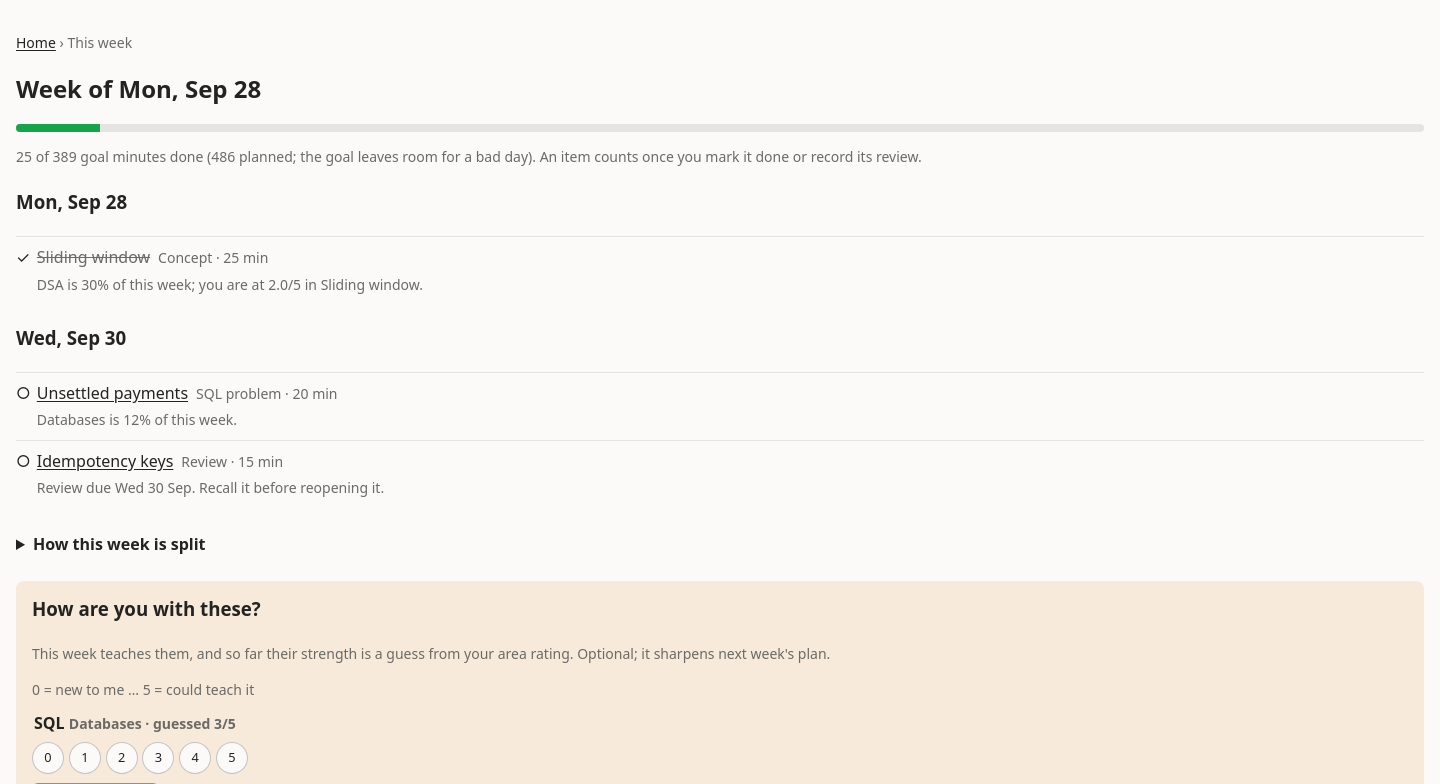
WeekPage › offers to sharpen guessed topics without blocking anything
This screenshot has width=1440, height=784.
Step 1. Click the radio button named "1, Heard of it" → [85, 758], box left=69, top=742, right=101, bottom=774
(page scrolled)
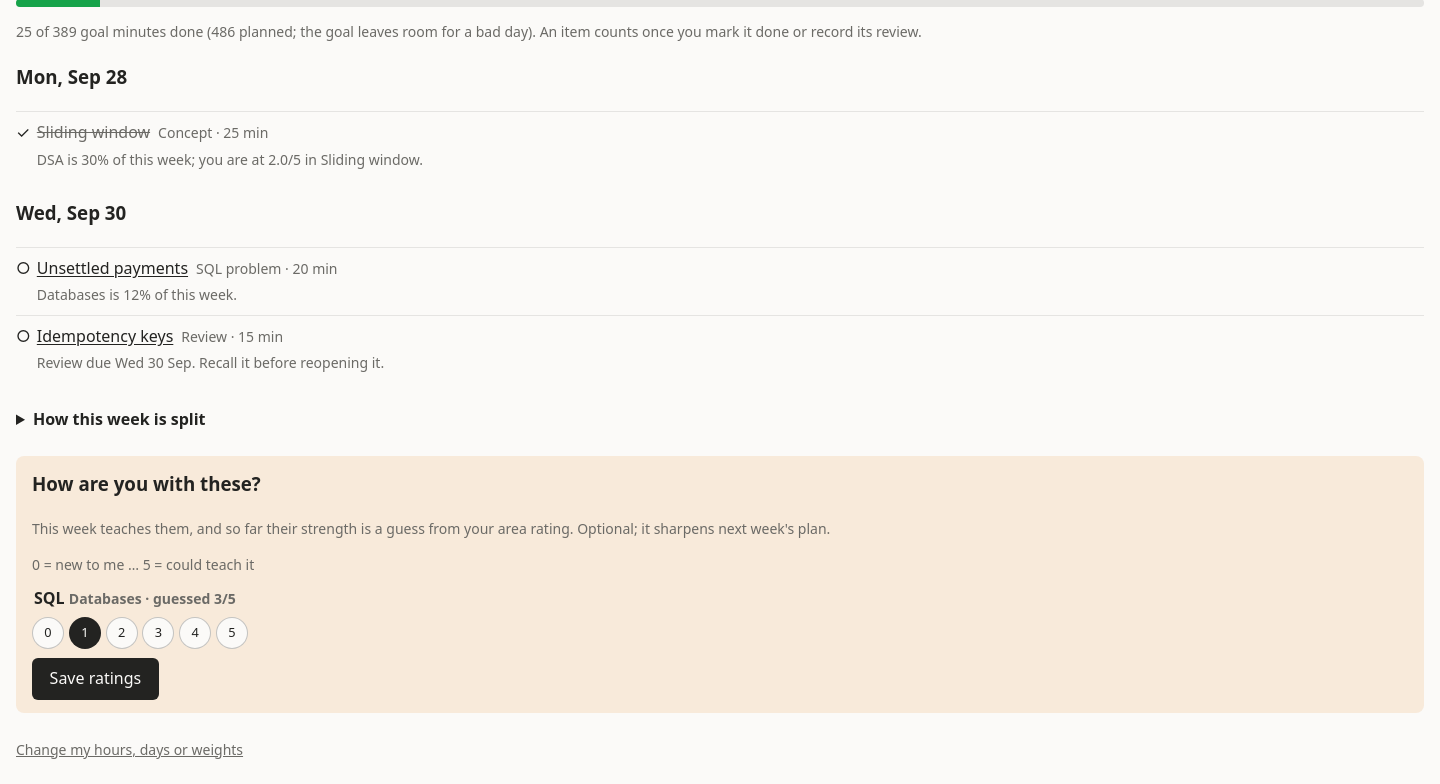
Check: the radio button named "1, Heard of it" is checked, box left=69, top=617, right=101, bottom=649
Step 2. Click the button "Save ratings" → [95, 679], box left=32, top=658, right=159, bottom=700
(page scrolled)
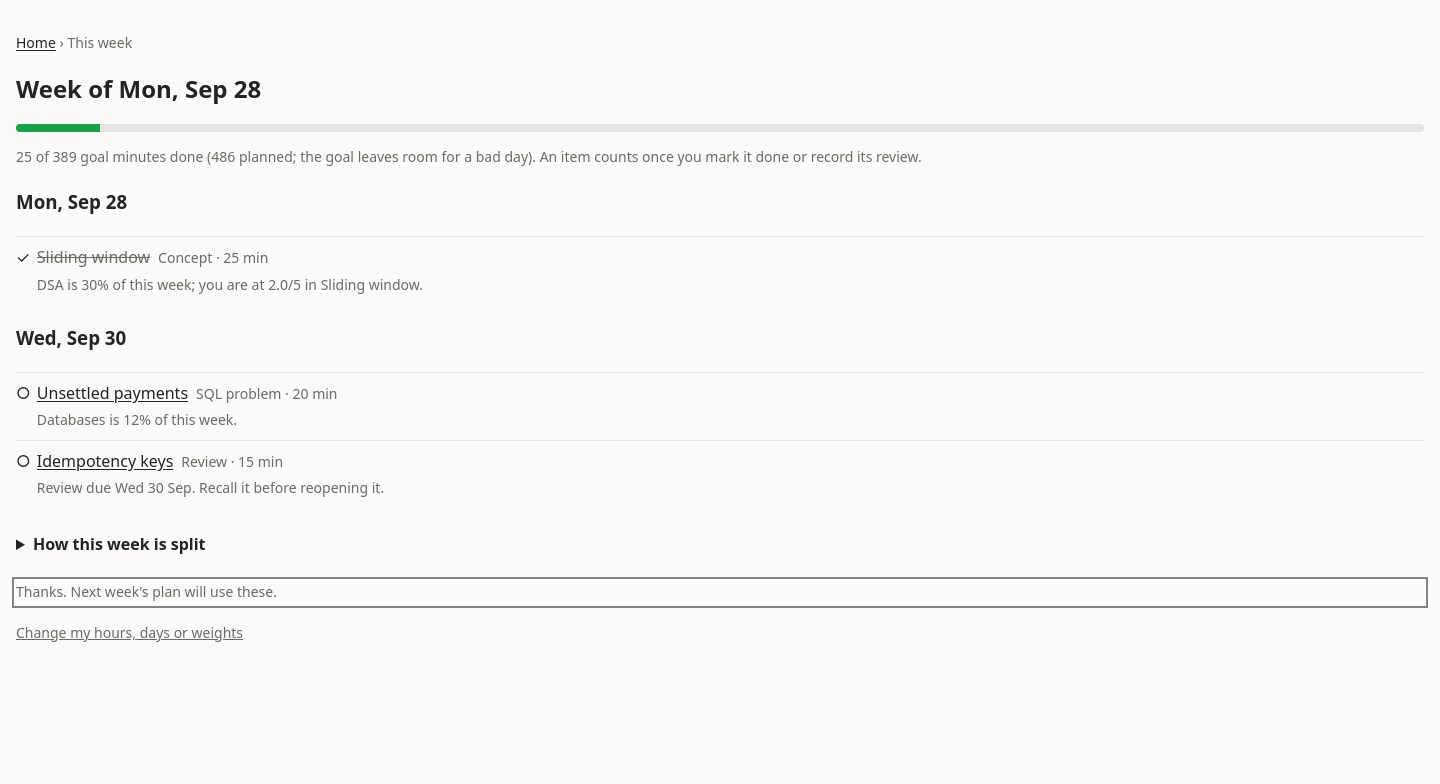
Check: the text "Thanks. Next week's plan will use these." is shown, box left=16, top=582, right=277, bottom=602
